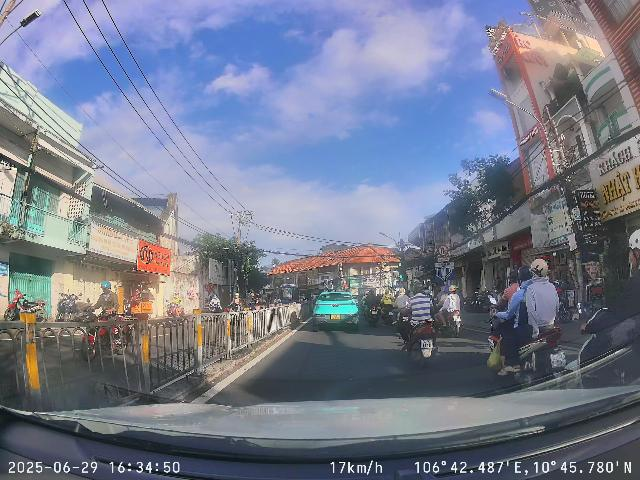124b-cam-oto-quay-dau-xe: (437, 244, 449, 256)
